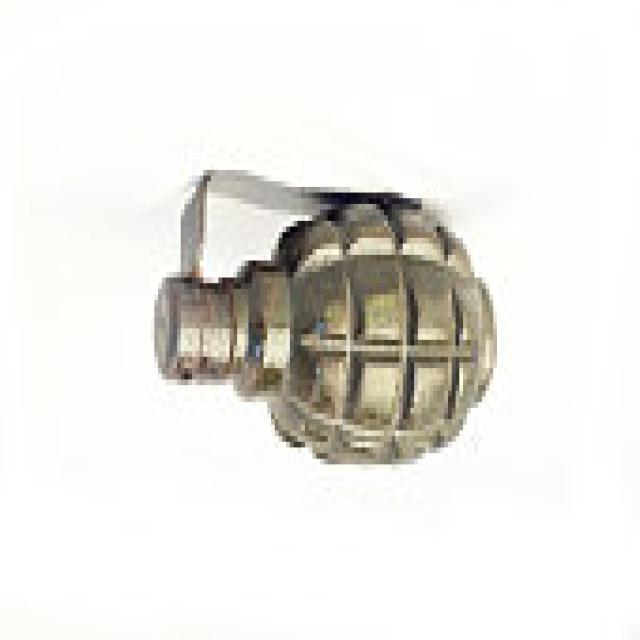grenade: (147, 163, 508, 481)
